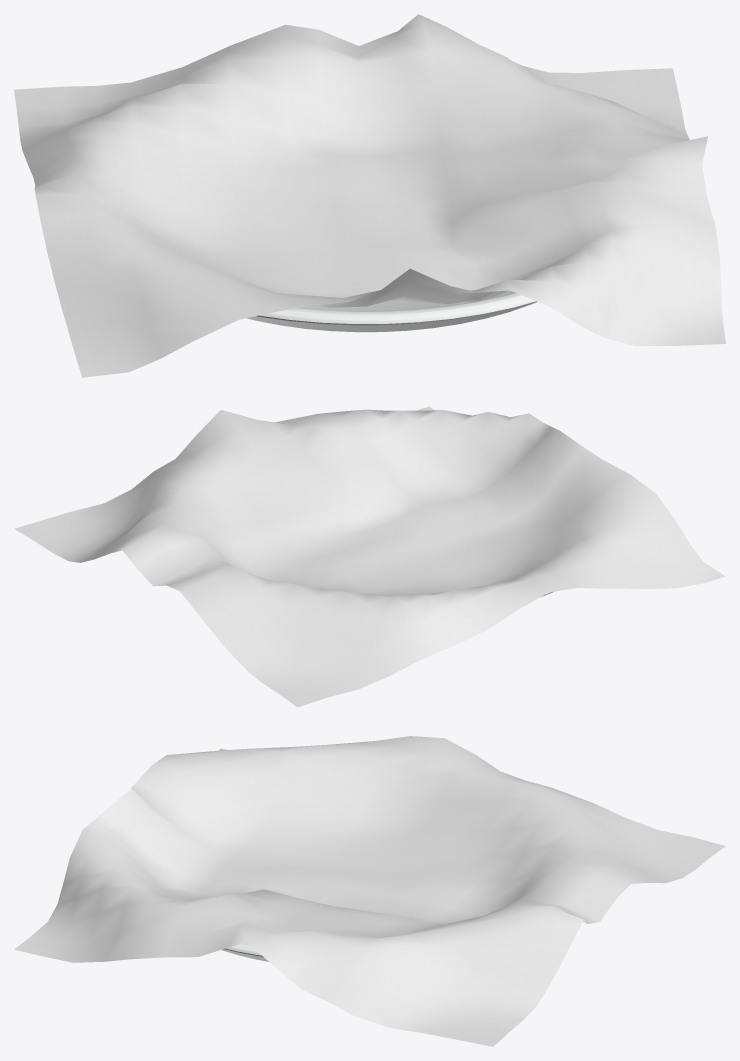
The model's file is Plate2.fbx.
3 renders of one model, top to bottom at view 1: azimuth 30°, elevation 25°; view 2: azimuth 150°, elevation 25°; view 3: azimuth 270°, elevation 25°, orthographic. The views are drawn at different scales.
Parts seen in each view (by area): view 1: Plate1; view 2: Plate1; view 3: Plate1.
Part boxes in pixels (x1=…): Plate1: x1=14, y1=14, x2=725, y2=377; Plate1: x1=14, y1=406, x2=725, y2=707; Plate1: x1=14, y1=736, x2=725, y2=1046.
Size of the model in its own units: 32.35 by 3.44 by 32.6.
